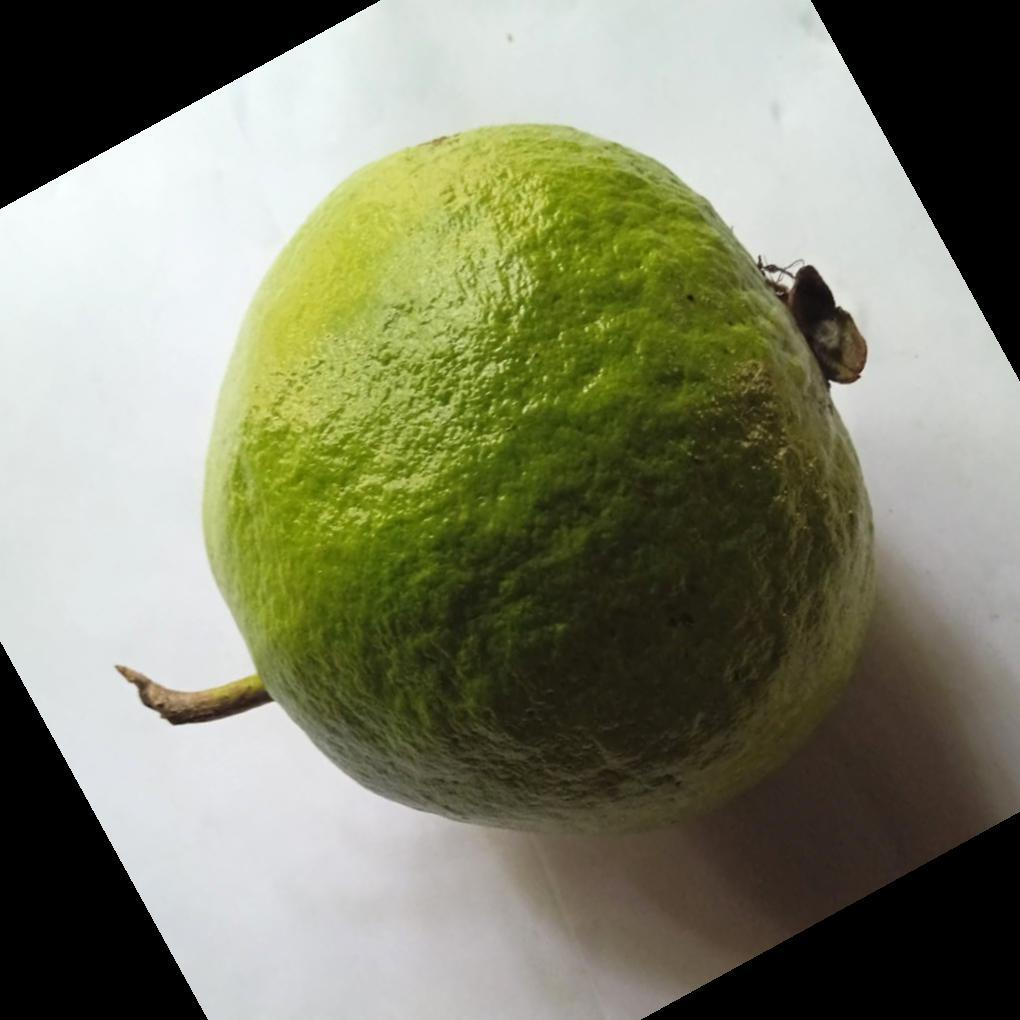FreshGuava: (200, 123, 879, 843)
